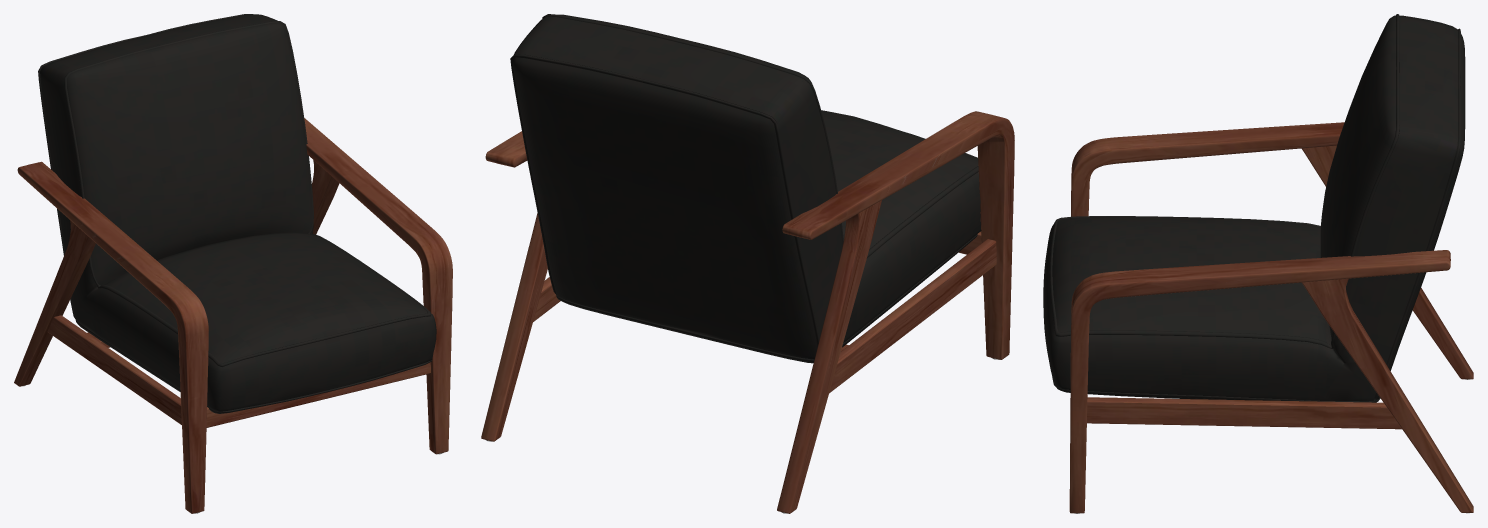
Rendered from B072PZVYC2.glb.
3 views of the same model, side by side, from view 1: azimuth 30°, elevation 25°; view 2: azimuth 150°, elevation 25°; view 3: azimuth 270°, elevation 25° (orthographic). The views are drawn at different scales.
Parts seen in each view (by area): view 1: B072PZVYC2; view 2: B072PZVYC2; view 3: B072PZVYC2.
Part boxes in pixels (<box>): B072PZVYC2: <box>14,14,452,513</box>; B072PZVYC2: <box>481,14,1014,513</box>; B072PZVYC2: <box>1043,14,1473,513</box>.
Size of the model in its own units: 0.7188 by 0.8611 by 0.889.
Materials: 1 (1 with a texture image).
